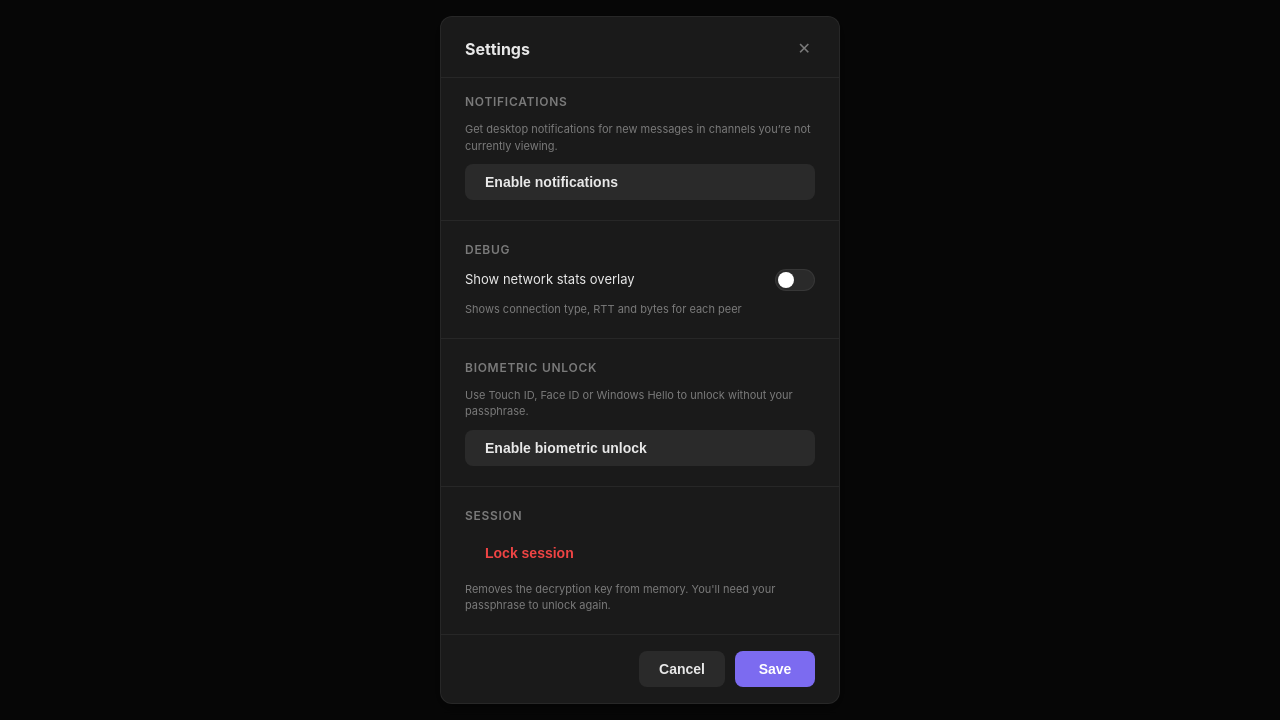
Test case: SettingsModal — biometric unlock not yet enabled › switches to Disable button after successful setup
(page scrolled)
Click the button "Enable biometric unlock" at coordinates (640, 448), box [465,430,815,466]
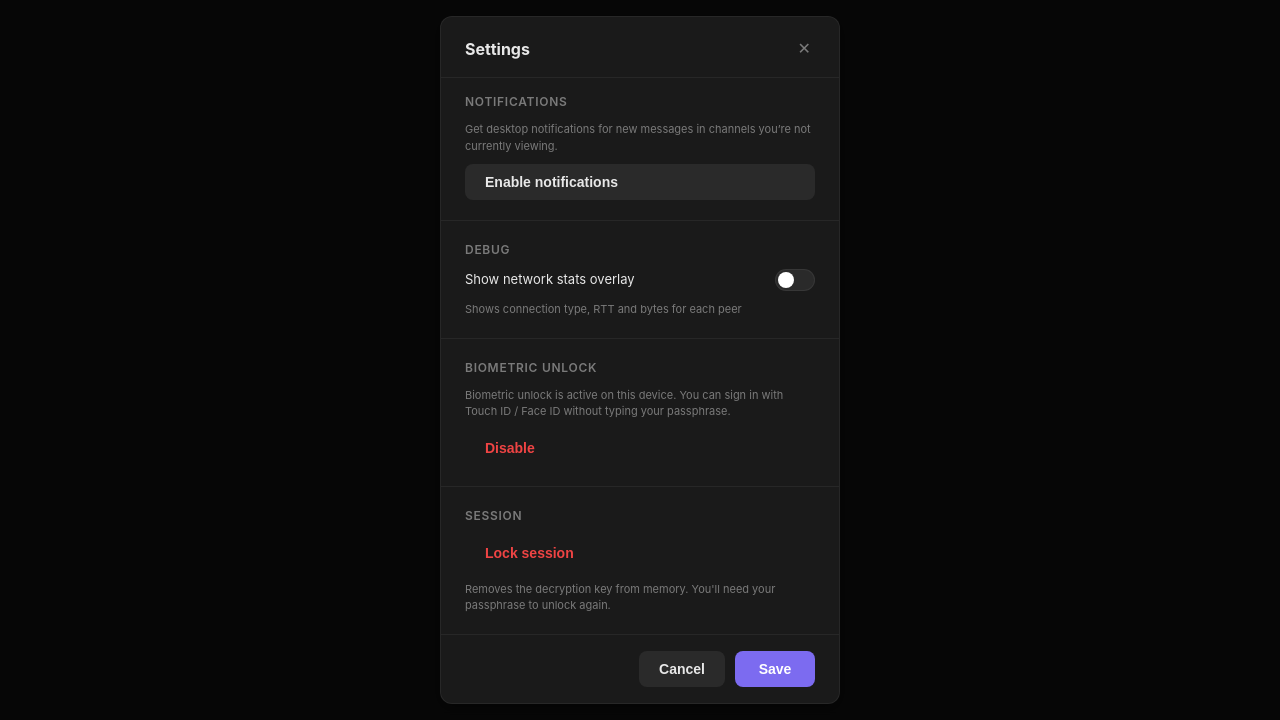
Now the button "Disable" is shown, box [465,430,555,466]
